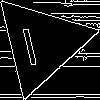I: (16, 18, 41, 66)
